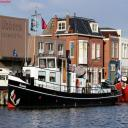tugboat: (8, 55, 124, 113)
